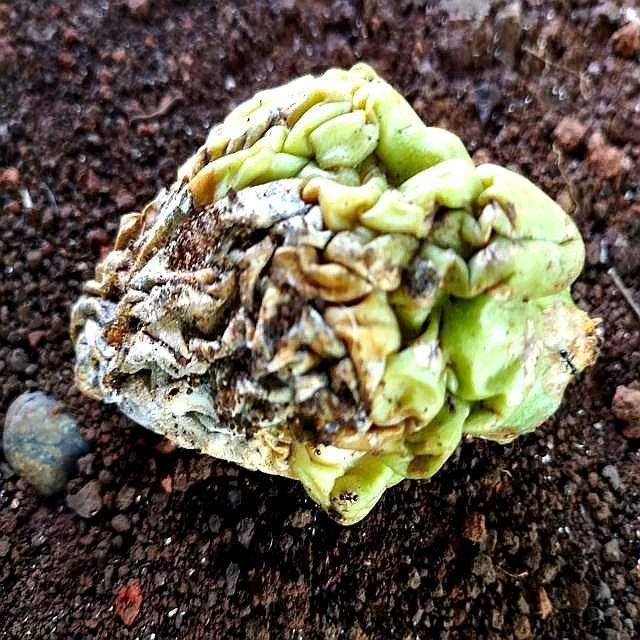Biodegradable: (71, 73, 587, 525)
